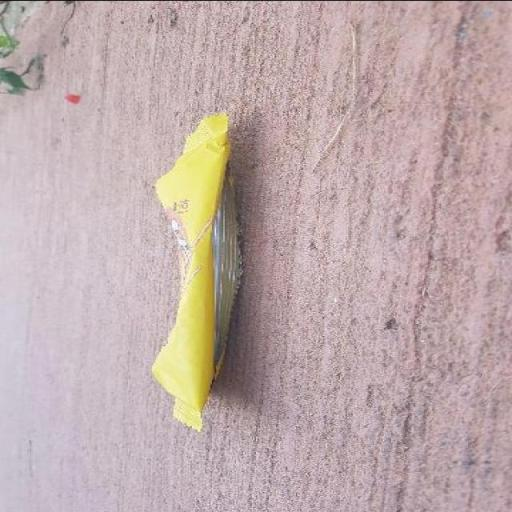plastic-bag: (152, 111, 251, 431)
